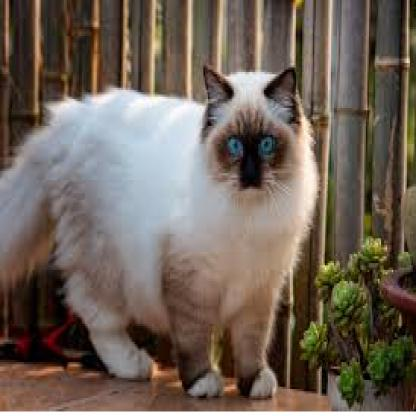cat: (0, 61, 321, 404)
